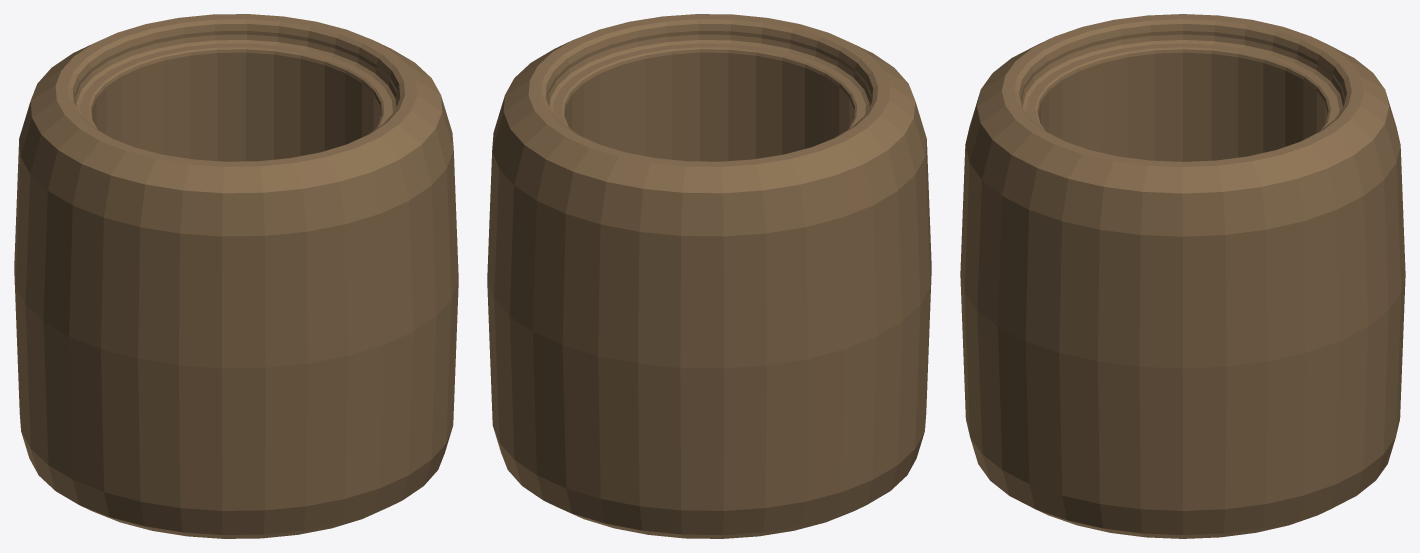
The model's file is Basket03.fbx.
3 views of the same model, side by side, from view 1: azimuth 30°, elevation 25°; view 2: azimuth 150°, elevation 25°; view 3: azimuth 270°, elevation 25° (orthographic).
Visible parts, largest first — view 1: Bsaket03; view 2: Bsaket03; view 3: Bsaket03.
Boxes of the visible parts, bbox=[...] form: Bsaket03: bbox=[14, 14, 458, 538]; Bsaket03: bbox=[487, 14, 931, 538]; Bsaket03: bbox=[960, 14, 1405, 538].
Size of the model in its own units: 0.8893 by 0.8105 by 0.8893.
